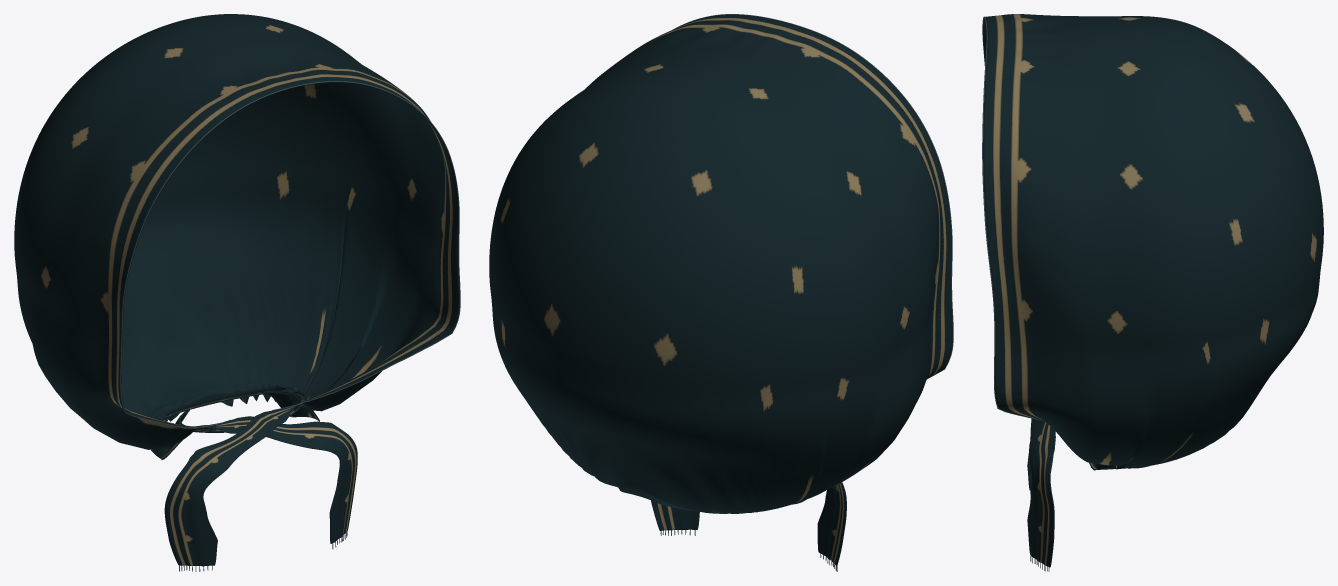
The model's file is Masculine-Masculine-middle-part-tank-pashmina250-headgear-6aa54bea.glb.
3 views of the same model, side by side, from view 1: azimuth 30°, elevation 25°; view 2: azimuth 150°, elevation 25°; view 3: azimuth 270°, elevation 25° (orthographic). The views are drawn at different scales.
Parts seen in each view (by area): view 1: 226 headgear / Headwear / continuous woven pashmina239, 226 headgear / Headwear / face edge239; view 2: 226 headgear / Headwear / continuous woven pashmina239, 226 headgear / Headwear / face edge239; view 3: 226 headgear / Headwear / continuous woven pashmina239, 226 headgear / Headwear / face edge239.
Part boxes in pixels (<box>): 226 headgear / Headwear / continuous woven pashmina239: <box>14,14,459,566</box>; 226 headgear / Headwear / face edge239: <box>120,81,460,428</box>; 226 headgear / Headwear / continuous woven pashmina239: <box>489,14,952,566</box>; 226 headgear / Headwear / face edge239: <box>673,14,953,378</box>; 226 headgear / Headwear / continuous woven pashmina239: <box>983,14,1323,567</box>; 226 headgear / Headwear / face edge239: <box>982,16,1043,420</box>.
Bounding box in the file's own units: 1.1 × 1.41 × 0.882.
Materials: 3 (1 with a texture image).
